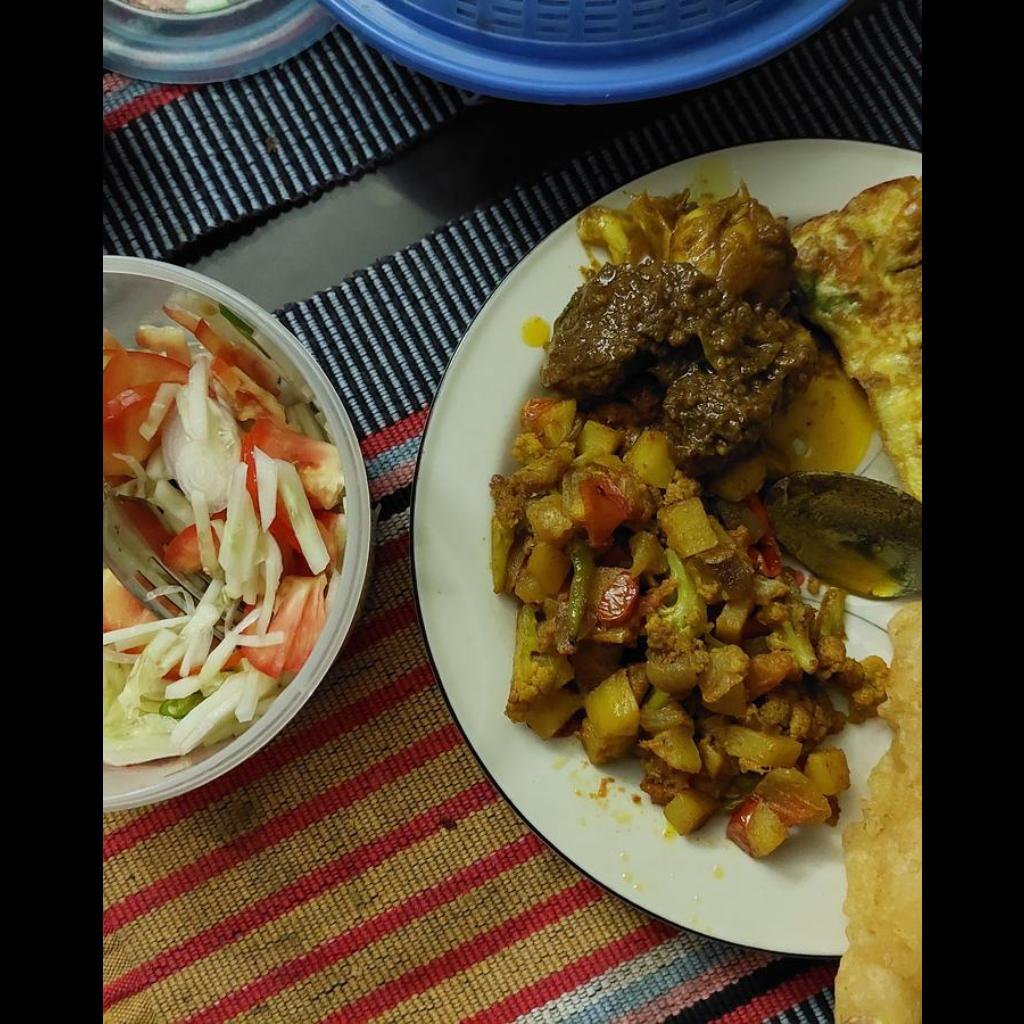beef: (541, 267, 812, 474)
egg-poached: (798, 178, 918, 492)
roll: (835, 605, 920, 1023)
salad: (102, 295, 347, 767)
vegetable: (485, 402, 899, 841)
